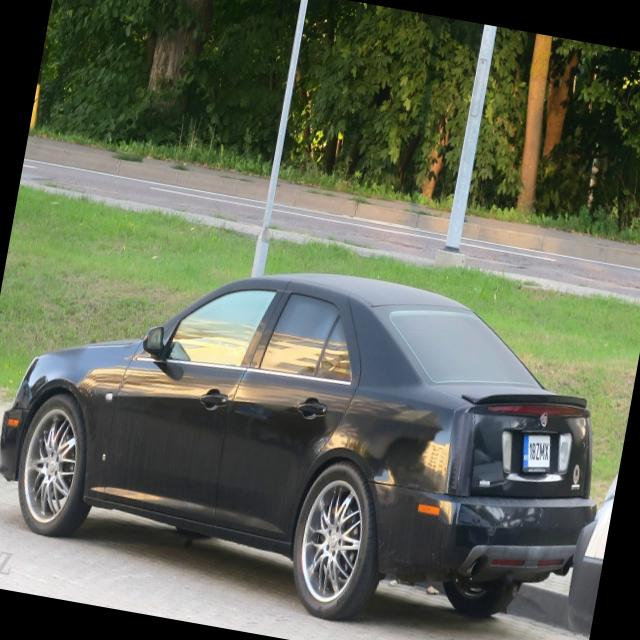License-plate: (517, 430, 556, 476)
